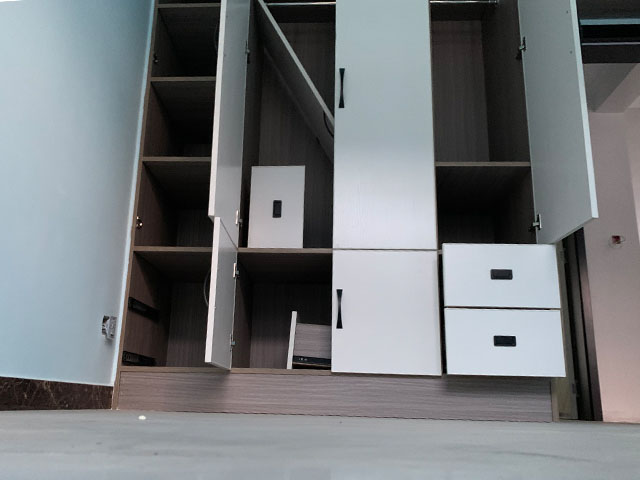cabinet: (109, 158, 574, 421)
